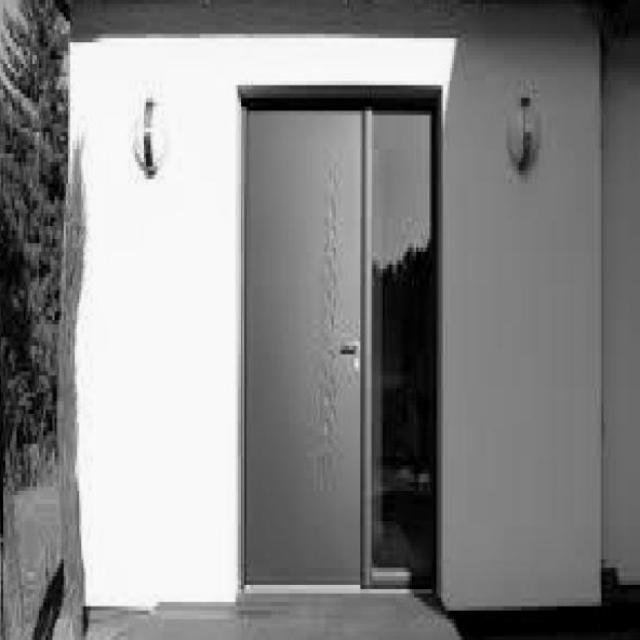door: (236, 90, 366, 594)
